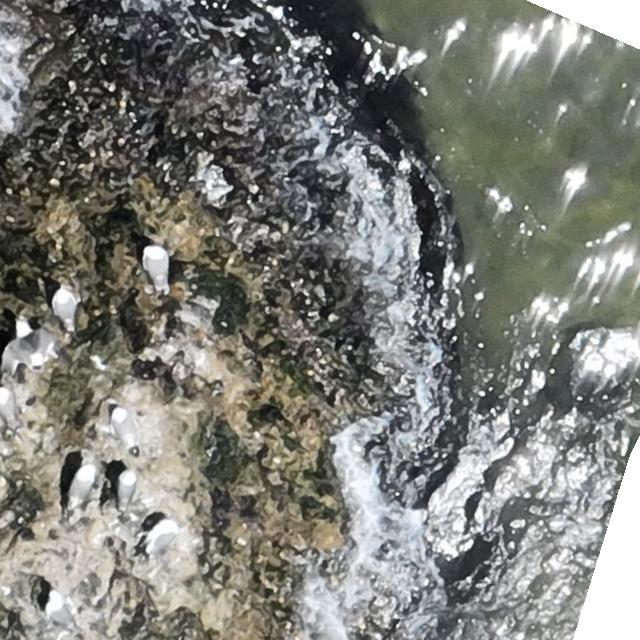F: (6, 320, 61, 370)
umineko: (41, 591, 83, 637), (142, 519, 177, 561), (67, 465, 93, 512), (144, 246, 167, 289), (53, 290, 75, 327), (114, 411, 134, 446), (118, 471, 136, 503), (0, 388, 15, 424)
